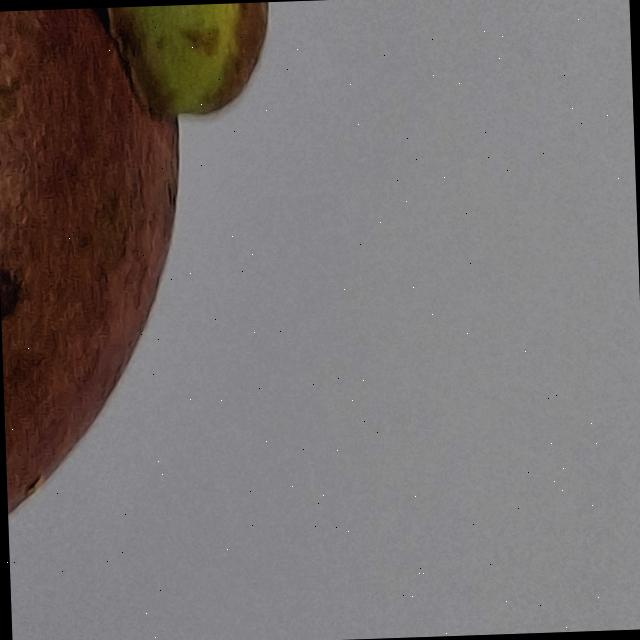mangosteen: (0, 0, 486, 640)
